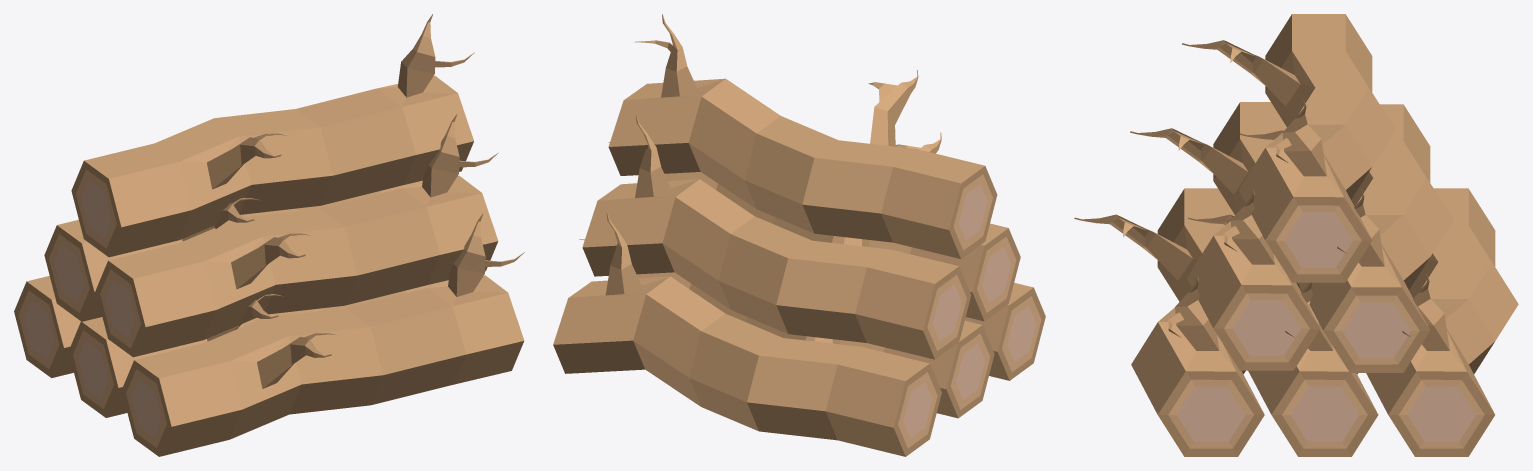
The picture shows the model from 3 angles, left to right: view 1: azimuth 30°, elevation 25°; view 2: azimuth 150°, elevation 25°; view 3: azimuth 270°, elevation 25°; orthographic projection. The views are drawn at different scales.
Visible parts, largest first — view 1: 木墩, 木墩.006, 木墩.005, 木墩002, 木墩.004, 木墩.003; view 2: 木墩.006, 木墩.003, 木墩.004, 木墩.005, 木墩002, 木墩; view 3: 木墩.006, 木墩.003, 木墩.004, 木墩, 木墩.005, 木墩002.
Part boxes in pixels (bbox=[...]): 木墩: bbox=[121, 214, 524, 456]; 木墩.006: bbox=[71, 14, 474, 257]; 木墩.005: bbox=[95, 114, 498, 357]; 木墩002: bbox=[68, 280, 448, 417]; 木墩.004: bbox=[44, 180, 422, 321]; 木墩.003: bbox=[14, 276, 80, 378]; 木墩.006: bbox=[608, 14, 997, 258]; 木墩.003: bbox=[553, 212, 941, 456]; 木墩.004: bbox=[582, 114, 971, 359]; 木墩.005: bbox=[664, 132, 1020, 321]; 木墩002: bbox=[636, 272, 994, 418]; 木墩: bbox=[965, 282, 1045, 380]; 木墩.006: bbox=[1182, 14, 1395, 282]; 木墩.003: bbox=[1366, 188, 1518, 456]; 木墩.004: bbox=[1240, 104, 1453, 372]; 木墩: bbox=[1074, 188, 1264, 456]; 木墩.005: bbox=[1130, 102, 1320, 370]; 木墩002: bbox=[1188, 214, 1378, 456].
Bounding box in the file's own units: 829 × 710 × 842.
